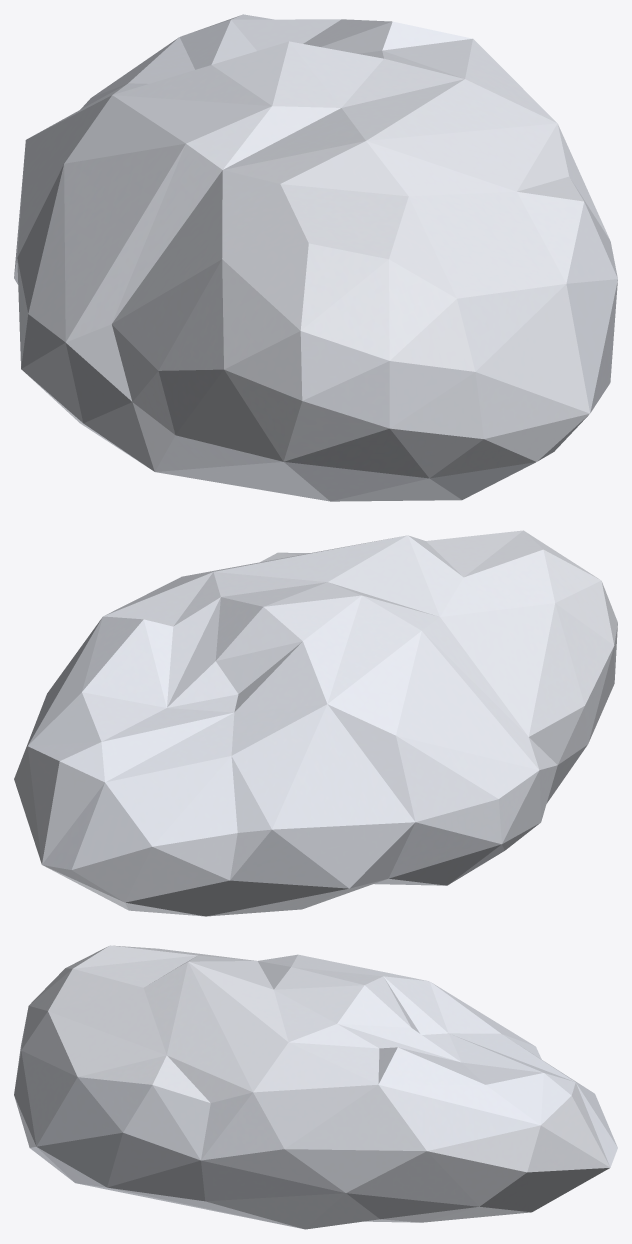
Rendered from Cloud_3.fbx.
The picture shows the model from 3 angles, top to bottom: view 1: azimuth 30°, elevation 25°; view 2: azimuth 150°, elevation 25°; view 3: azimuth 270°, elevation 25°; orthographic projection. The views are drawn at different scales.
Parts seen in each view (by area): view 1: Group45789; view 2: Group45789; view 3: Group45789.
Part boxes in pixels (box(x1,y1,x2,y2)): Group45789: box(14, 14, 617, 501); Group45789: box(14, 530, 617, 916); Group45789: box(14, 945, 617, 1229).
Size of the model in its own units: 4.85 by 3.03 by 7.24.
Materials: 1 (1 with a texture image).
